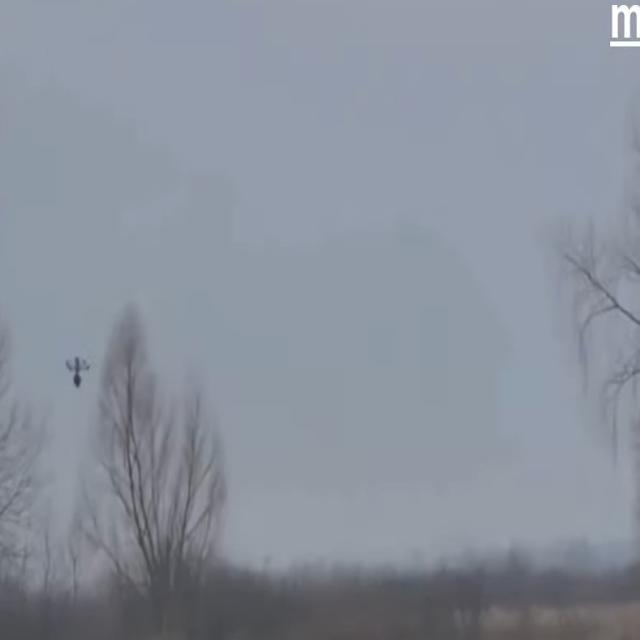drone: (63, 352, 94, 390)
